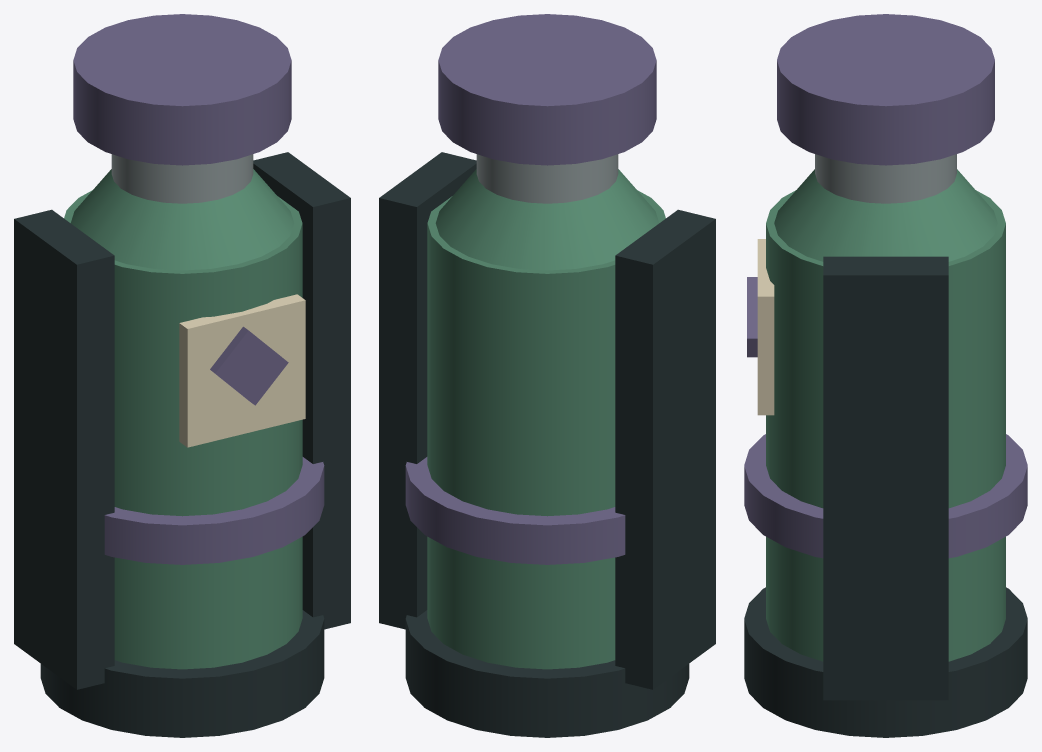
The model's file is FSA_ITEM_Consumable_006_VirusSerum.glb.
3 views of the same model, side by side, from view 1: azimuth 30°, elevation 25°; view 2: azimuth 150°, elevation 25°; view 3: azimuth 270°, elevation 25° (orthographic).
Visible parts, largest first — view 1: SerumVial, ProtectiveRail_-1, TamperCap, ProtectiveRail_1, VialBase, Shoulder, SerumLabel, RailBand, SealNeck, ShieldMark; view 2: SerumVial, ProtectiveRail_-1, TamperCap, ProtectiveRail_1, VialBase, Shoulder, RailBand, SealNeck; view 3: ProtectiveRail_1, SerumVial, TamperCap, VialBase, Shoulder, RailBand, SealNeck, SerumLabel, ShieldMark.
Part boxes in pixels (bbox=[...]): SerumVial: bbox=[64, 190, 302, 669]; ProtectiveRail_-1: bbox=[14, 209, 114, 689]; TamperCap: bbox=[73, 14, 291, 165]; ProtectiveRail_1: bbox=[253, 152, 350, 629]; VialBase: bbox=[40, 610, 324, 737]; Shoulder: bbox=[71, 169, 294, 270]; SerumLabel: bbox=[179, 294, 305, 447]; RailBand: bbox=[104, 457, 324, 564]; SealNeck: bbox=[111, 154, 253, 203]; ShieldMark: bbox=[210, 326, 288, 405]; SerumVial: bbox=[427, 190, 665, 669]; ProtectiveRail_-1: bbox=[615, 209, 715, 689]; TamperCap: bbox=[438, 14, 656, 165]; ProtectiveRail_1: bbox=[379, 152, 476, 629]; VialBase: bbox=[405, 610, 689, 737]; Shoulder: bbox=[435, 169, 658, 270]; RailBand: bbox=[405, 457, 625, 564]; SealNeck: bbox=[476, 154, 618, 203]; ProtectiveRail_1: bbox=[823, 256, 948, 700]; SerumVial: bbox=[766, 190, 1005, 661]; TamperCap: bbox=[777, 14, 994, 165]; VialBase: bbox=[744, 587, 1027, 737]; Shoulder: bbox=[774, 169, 997, 261]; RailBand: bbox=[744, 434, 1027, 558]; SealNeck: bbox=[815, 154, 956, 203]; SerumLabel: bbox=[757, 239, 774, 415]; ShieldMark: bbox=[747, 277, 757, 357].
Size of the model in its own units: 0.058 by 0.125 by 0.052.
